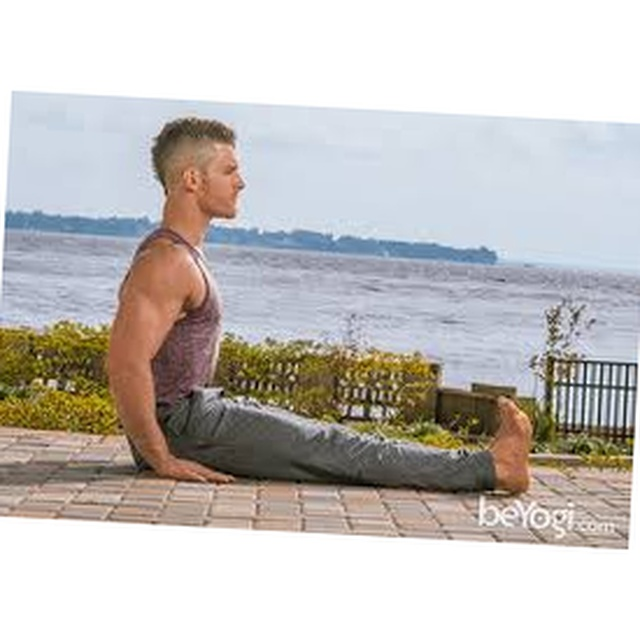Staff_Pose: (107, 114, 535, 494)
